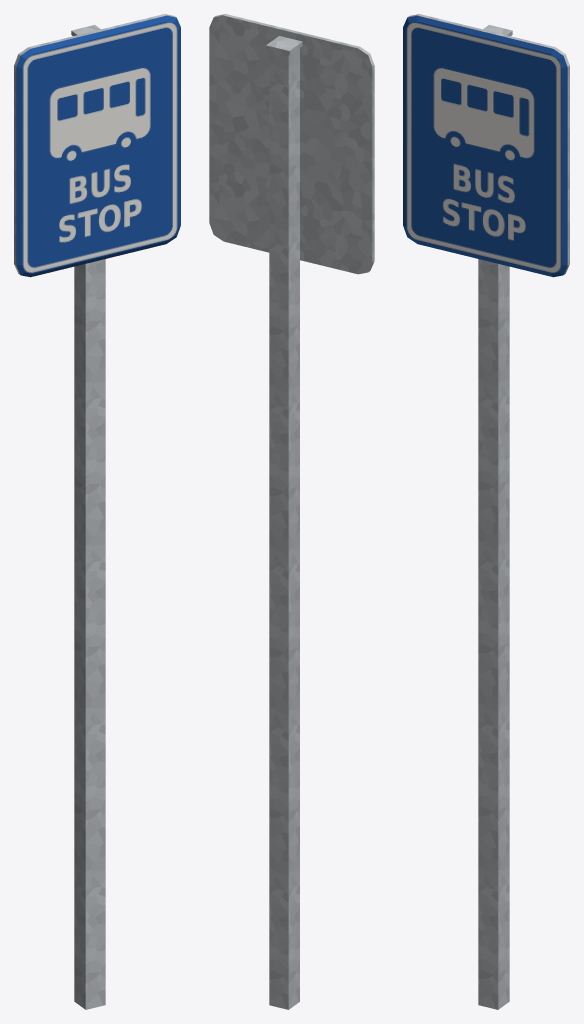
The model's file is bus_stop_sign.gltf.
3 views of the same model, side by side, from view 1: azimuth 30°, elevation 25°; view 2: azimuth 150°, elevation 25°; view 3: azimuth 330°, elevation 25° (orthographic).
Parts seen in each view (by area): view 1: bus_stop_sign; view 2: bus_stop_sign; view 3: bus_stop_sign.
Boxes of the visible parts, x1=… form: bus_stop_sign: x1=14, y1=14, x2=180, y2=1009; bus_stop_sign: x1=209, y1=14, x2=374, y2=1009; bus_stop_sign: x1=403, y1=14, x2=569, y2=1009.
Size of the model in its own units: 0.529 by 3 by 0.0943.
Materials: 2 (2 with a texture image).
